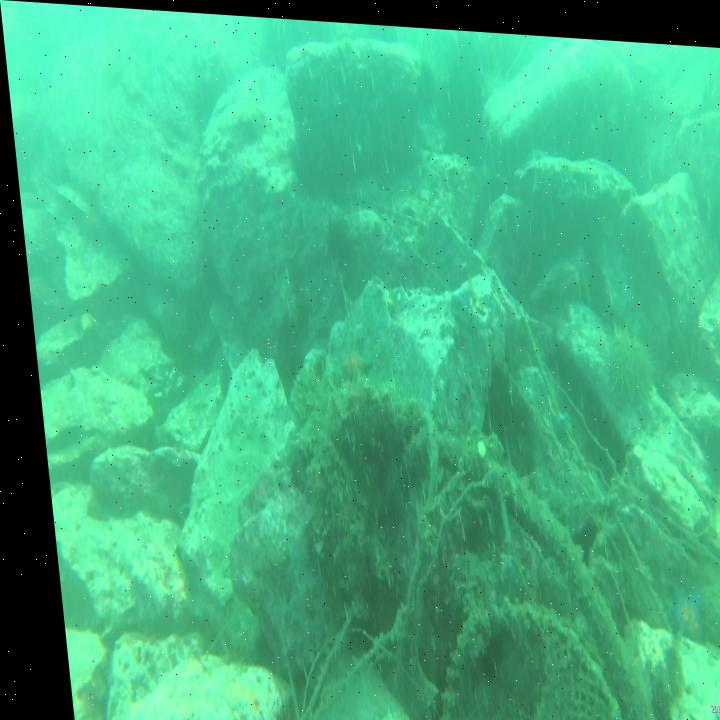echinus: (601, 325, 654, 397), (315, 216, 348, 256)
starfish: (656, 565, 694, 636), (329, 336, 369, 389)
